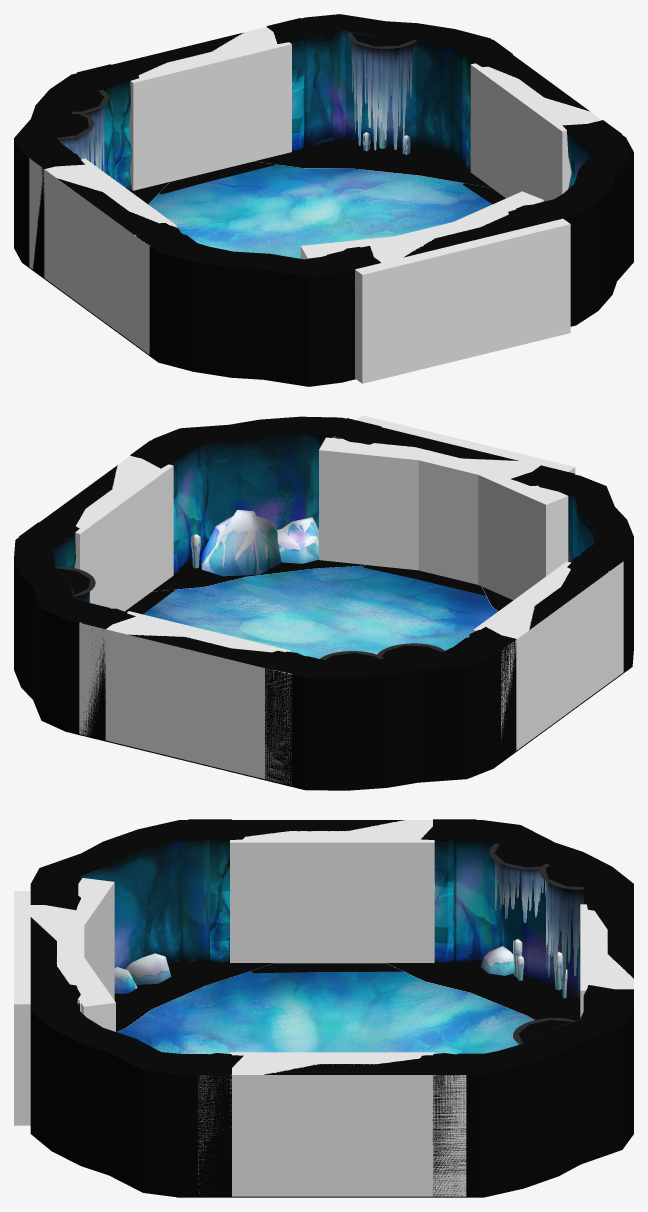
The model's file is Dungeon_072_StartRoom_001_Ev.fbx.
3 renders of one model, top to bottom at view 1: azimuth 30°, elevation 25°; view 2: azimuth 150°, elevation 25°; view 3: azimuth 270°, elevation 25°, orthographic. The views are drawn at different scales.
Visible parts, largest first — view 1: Dun_072_StartRoom_002_wall, DoorWay_NavMask (3) (×4), DoorWay_NavMask (1) (×3), Dun_072_StartRoom_002_ground, Dun_072_Door_002 (×4), Dun_072_OB_Icicle, Dun_072_StartRoom_002_shadow, DoorWay_NavMask (2) (×2), DoorWay_NavMask (4), Dun_072_Door_002_shadow, Dun_072_OB_Ice_crystals01; view 2: Dun_072_StartRoom_002_wall, DoorWay_NavMask (3) (×4), DoorWay_NavMask (1) (×4), Dun_072_StartRoom_002_ground, Dun_072_Door_002 (×4), DoorWay_NavMask (4), DoorWay_NavMask (2) (×4), Dun_072_OB_Stone02, Dun_072_StartRoom_002_shadow, Dun_072_OB_Icicle, Dun_072_Door_002_shadow; view 3: Dun_072_StartRoom_002_wall, DoorWay_NavMask (1) (×4), DoorWay_NavMask (3) (×4), Dun_072_StartRoom_002_ground, Dun_072_Door_002 (×4), Dun_072_StartRoom_002_shadow, Dun_072_OB_Icicle, DoorWay_NavMask (2) (×3), Dun_072_OB_Stone01, DoorWay_NavMask (4), Dun_072_Door_002_shadow, Dun_072_OB_Ice_crystals01.
Part boxes in pixels (x1,y1,x2,y2): Dun_072_StartRoom_002_wall: (14,14,633,386); DoorWay_NavMask (3) (×4): (29,27,601,383); DoorWay_NavMask (1) (×3): (43,27,583,341); Dun_072_StartRoom_002_ground: (134,164,492,345); Dun_072_Door_002 (×4): (25,18,621,344); Dun_072_OB_Icicle: (56,32,416,171); Dun_072_StartRoom_002_shadow: (130,139,491,204); DoorWay_NavMask (2) (×2): (227,33,423,259); DoorWay_NavMask (4): (440,191,543,233); Dun_072_Door_002_shadow: (159,161,276,194); Dun_072_OB_Ice_crystals01: (362,109,410,154); Dun_072_StartRoom_002_wall: (14,416,633,790); DoorWay_NavMask (3) (×4): (79,415,623,785); DoorWay_NavMask (1) (×4): (74,445,570,778); Dun_072_StartRoom_002_ground: (143,565,609,684); Dun_072_Door_002 (×4): (19,418,627,780); DoorWay_NavMask (4): (319,437,442,570); DoorWay_NavMask (2) (×4): (114,459,568,635); Dun_072_OB_Stone02: (201,510,318,576); Dun_072_StartRoom_002_shadow: (152,554,512,611); Dun_072_OB_Icicle: (56,567,444,661); Dun_072_Door_002_shadow: (363,565,485,595); Dun_072_StartRoom_002_wall: (30,820,633,1197); DoorWay_NavMask (1) (×4): (31,820,633,1196); DoorWay_NavMask (3) (×4): (14,820,633,1196); Dun_072_StartRoom_002_ground: (116,971,534,1197); Dun_072_Door_002 (×4): (30,819,633,1197); Dun_072_StartRoom_002_shadow: (114,959,580,1031); Dun_072_OB_Icicle: (489,843,583,1044); DoorWay_NavMask (2) (×3): (78,823,434,1072); Dun_072_OB_Stone01: (114,946,514,993); DoorWay_NavMask (4): (57,950,115,1031); Dun_072_Door_002_shadow: (250,963,403,973); Dun_072_OB_Ice_crystals01: (513,939,567,998).
Size of what is drawn, in the model's own units: 9 by 2.08 by 9.25.
